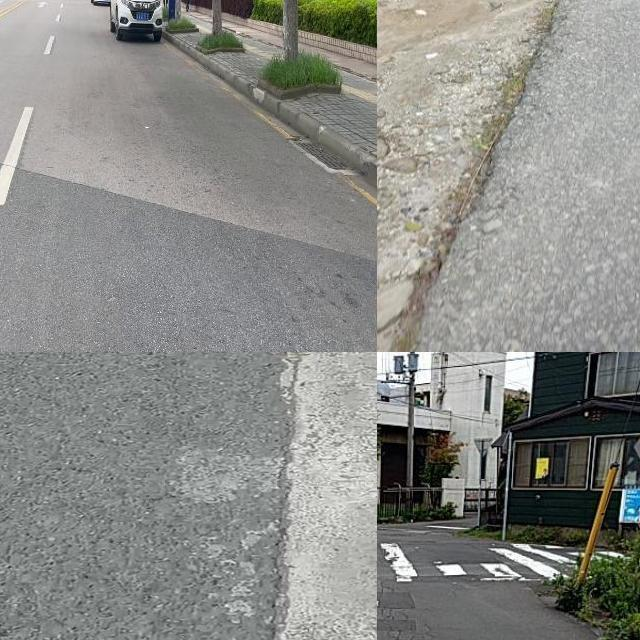Pinggir: (377, 0, 620, 352)
Sambungan: (0, 161, 377, 352), (254, 352, 377, 640)
